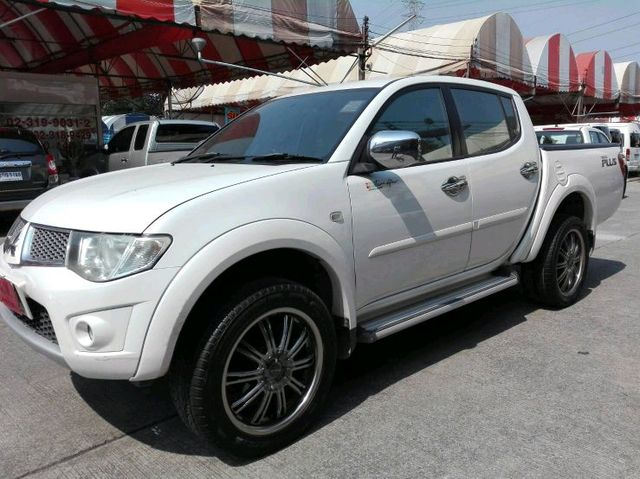pickup: (4, 74, 630, 458)
